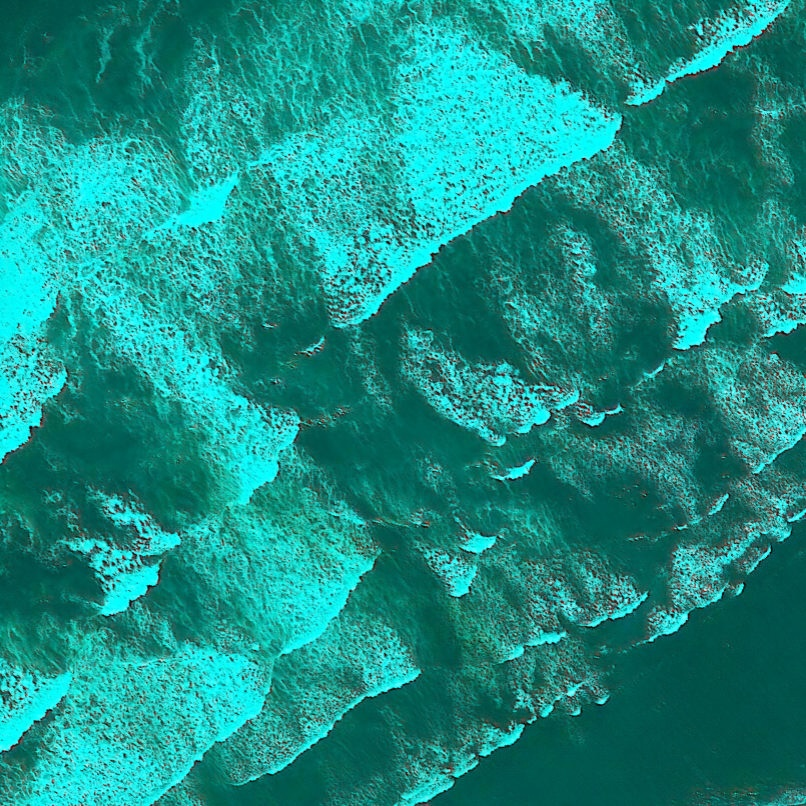rip_current: (157, 195, 598, 677)
